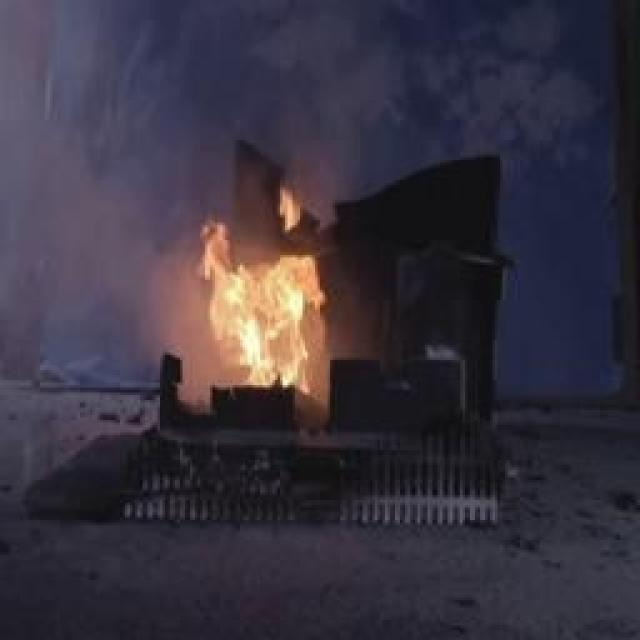fire: (198, 184, 342, 401)
smoke: (0, 0, 200, 248)
